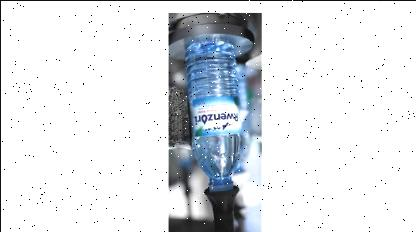Plastic Bottle: (184, 38, 240, 191)
